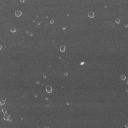corrosion: (1, 109, 12, 122), (44, 84, 54, 95), (86, 10, 96, 19), (58, 44, 67, 53), (14, 9, 23, 18), (113, 17, 122, 25), (9, 25, 17, 34), (120, 73, 128, 82), (26, 30, 34, 37), (48, 18, 55, 25), (1, 97, 6, 106), (79, 60, 85, 67), (63, 70, 69, 77), (61, 25, 67, 31), (64, 100, 70, 106), (36, 21, 41, 26), (35, 79, 39, 85), (42, 73, 46, 78)
